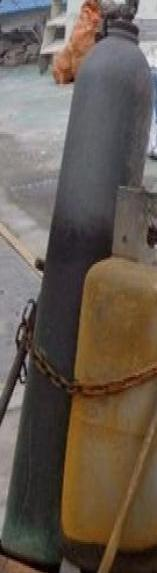cylinder: (1, 1, 157, 573)
